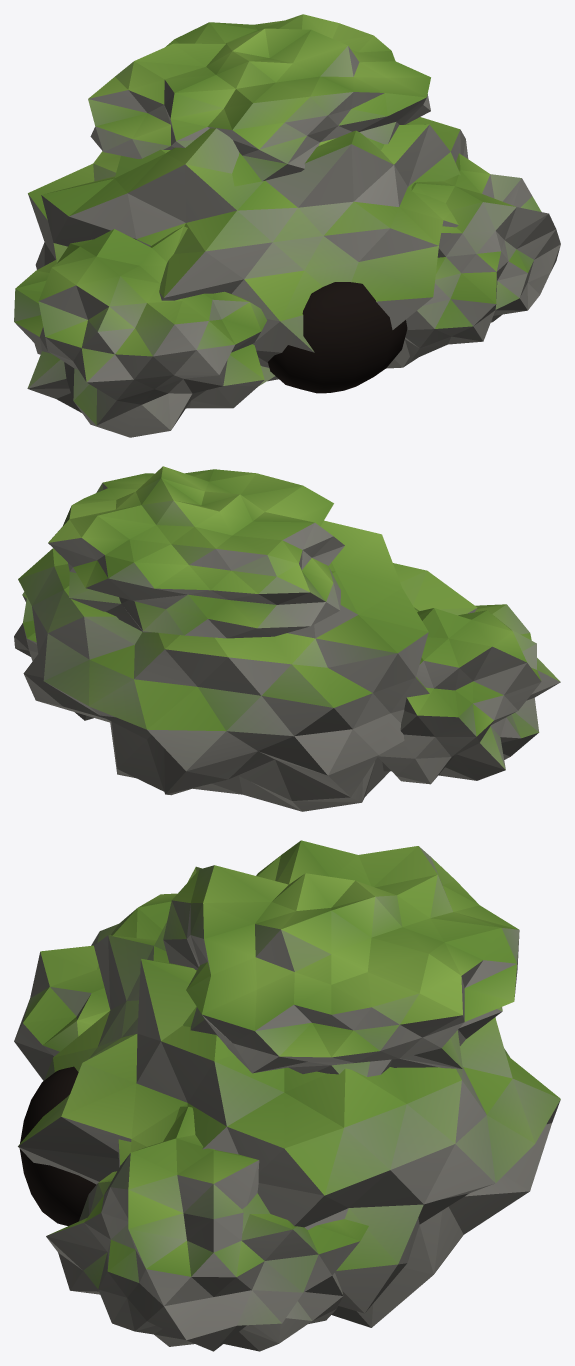
Rendered from wolf_den.glb.
3 renders of one model, top to bottom at view 1: azimuth 30°, elevation 25°; view 2: azimuth 150°, elevation 25°; view 3: azimuth 270°, elevation 25°, orthographic. The views are drawn at different scales.
Visible parts, largest first — view 1: DenRocks-col, DenOpening; view 2: DenRocks-col; view 3: DenRocks-col, DenOpening.
Part boxes in pixels (<box>): DenRocks-col: <box>14,14,560,437</box>; DenOpening: <box>268,282,407,393</box>; DenRocks-col: <box>14,466,560,811</box>; DenRocks-col: <box>14,840,560,1351</box>; DenOpening: <box>19,1066,96,1225</box>.
Bounding box in the file's own units: 6.67 × 3.9 × 4.65.
